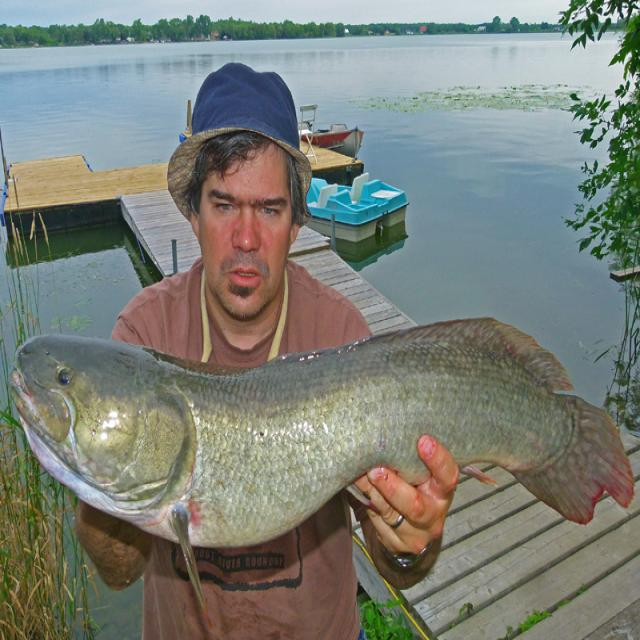Bowfin: (10, 319, 634, 597)
